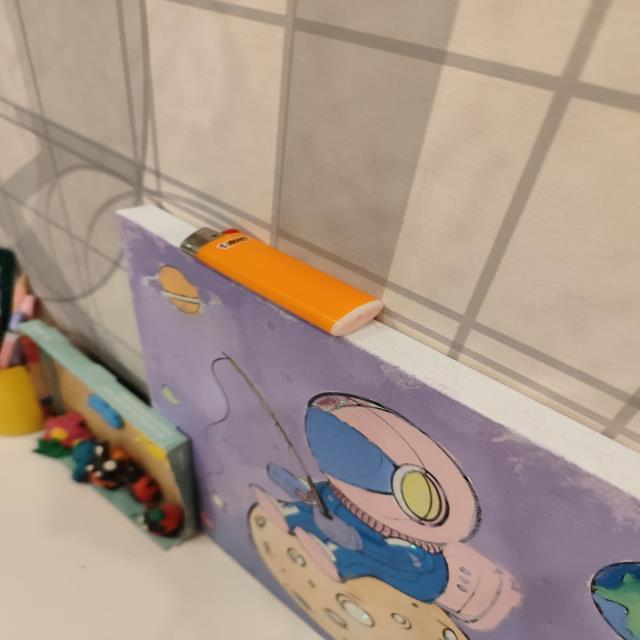lighter: (180, 228, 383, 336)
